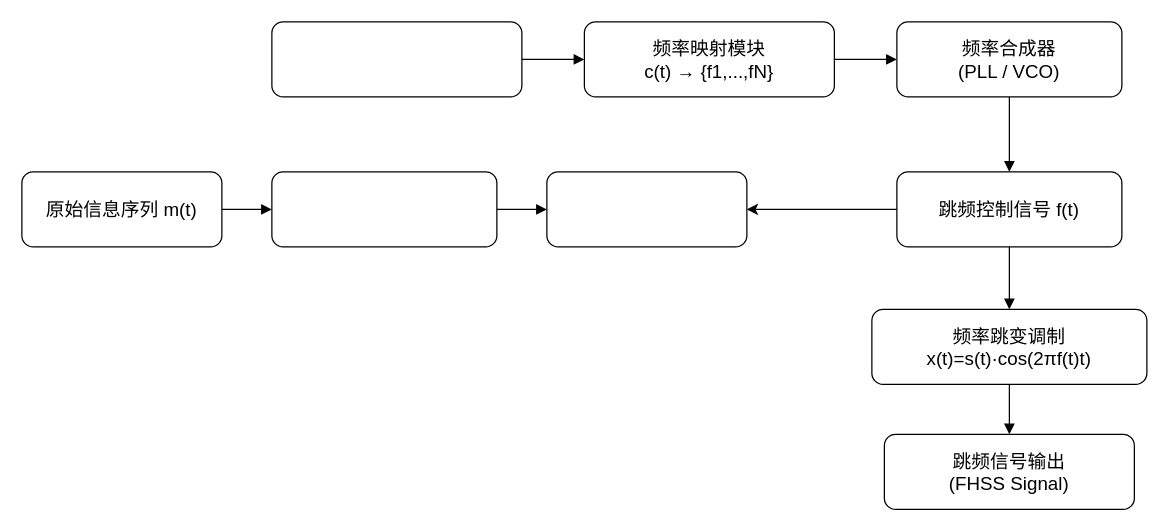
This 1169x531 diagram has some shape labels left out. Here are the shapes that lost their labels. From the top down, the centre of each, then its label:
the point at 396,59: 伪随机序列生成 (LFSR / PN序列)
the point at 384,209: 基带调制 (BPSK/QPSK/FSK)
the point at 646,209: 已调信号 s(t)
